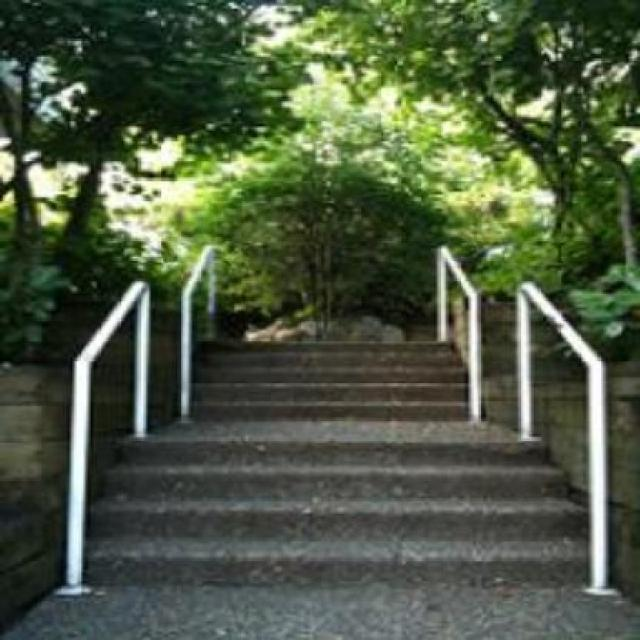stair: (75, 318, 600, 591)
